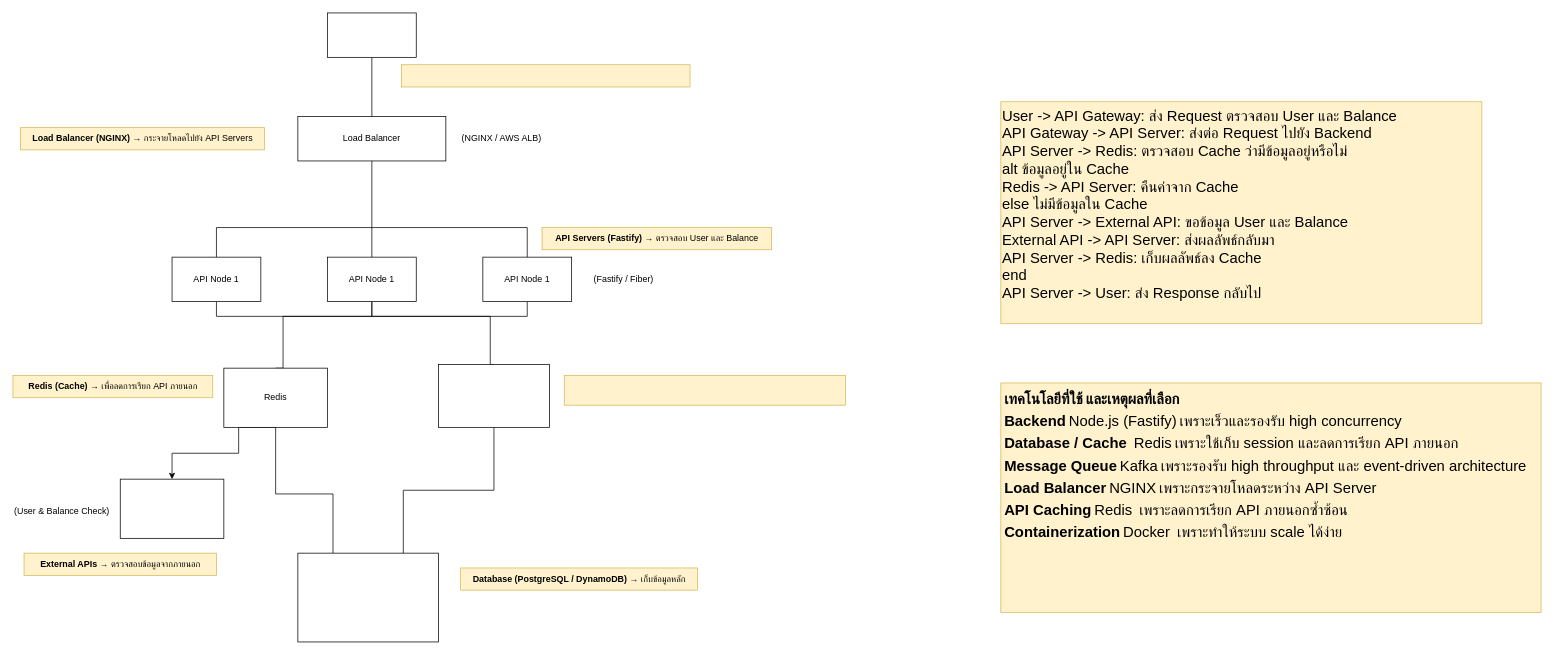
Some shapes in this 1554 by 655 pixel diagram are drawn without their labels. Each missing label, with the centre of its shape:
External API: pixel 172 508
Message Queue: pixel 493 395
Message Queue (Kafka / RabbitMQ) → สำหรับ async processing: pixel 704 390
PostgreSQL / DynamoDB: pixel 367 597
User: pixel 371 34
User → ส่ง Request มายัง API Gateway หรือ Load Balancer: pixel 545 75
